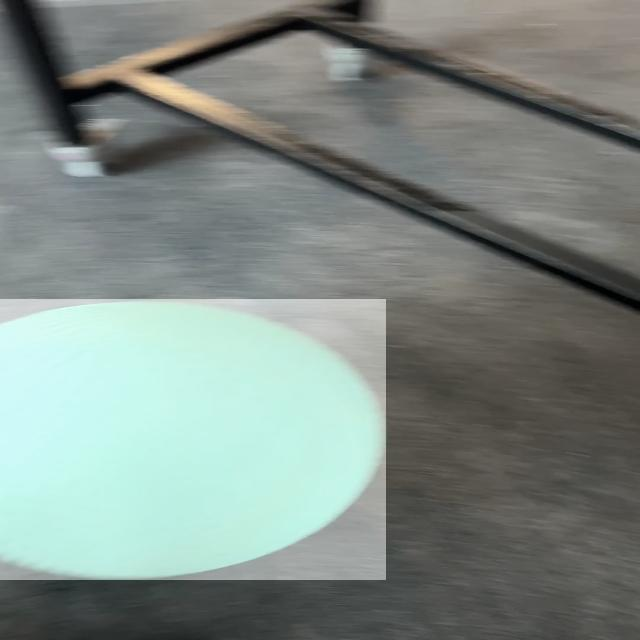Algae: (1, 299, 387, 580)
